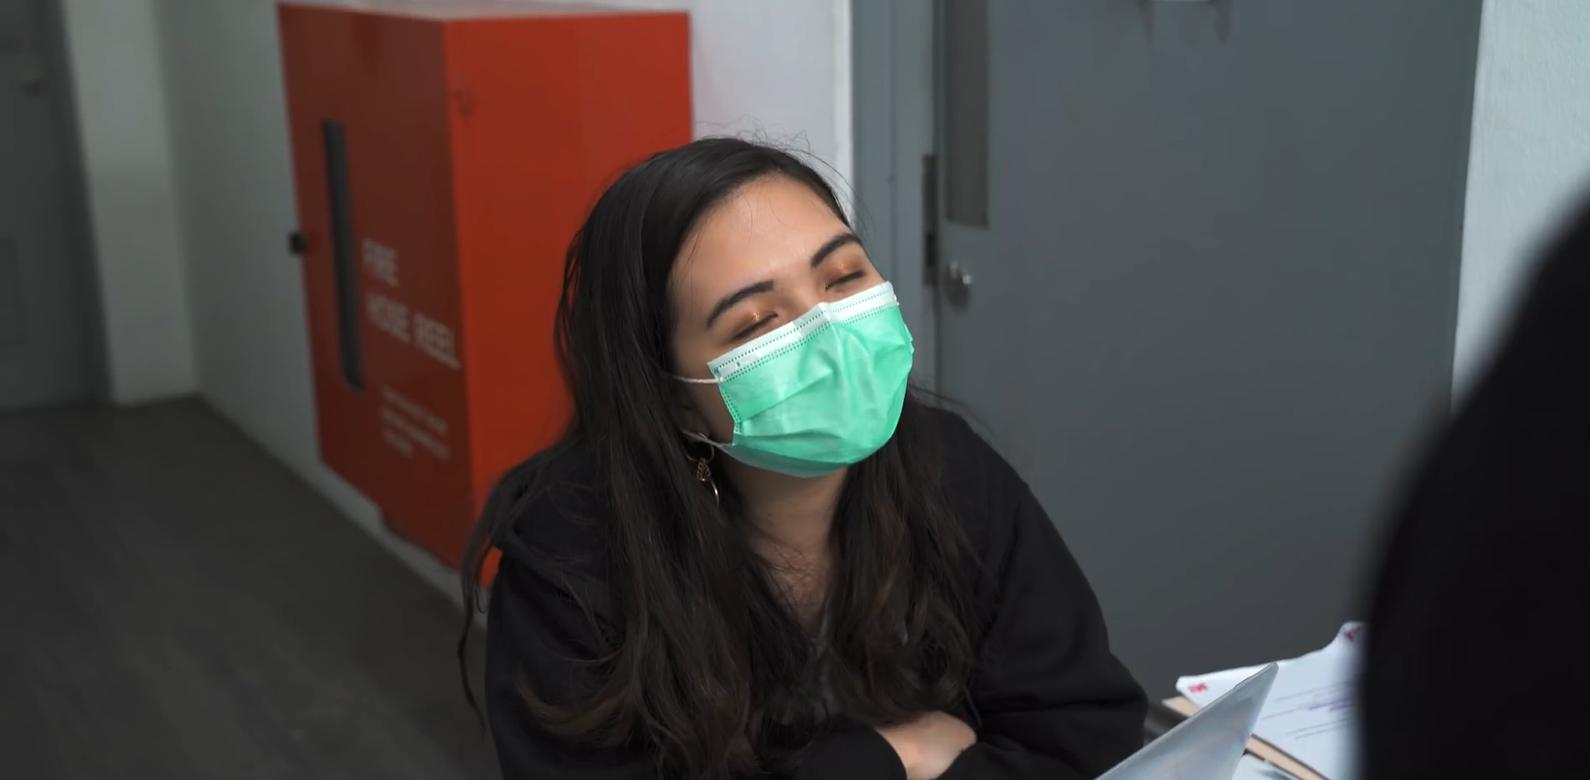with_mask: (704, 270, 889, 453)
